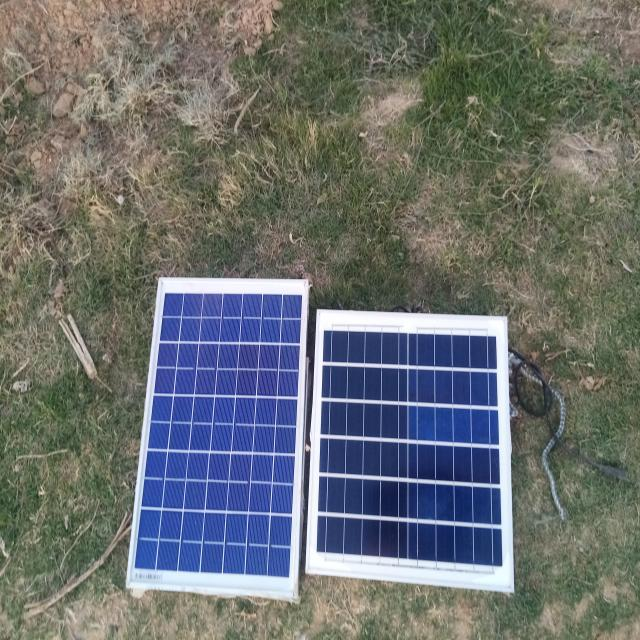no faulty: (308, 312, 514, 593), (129, 278, 308, 597)
